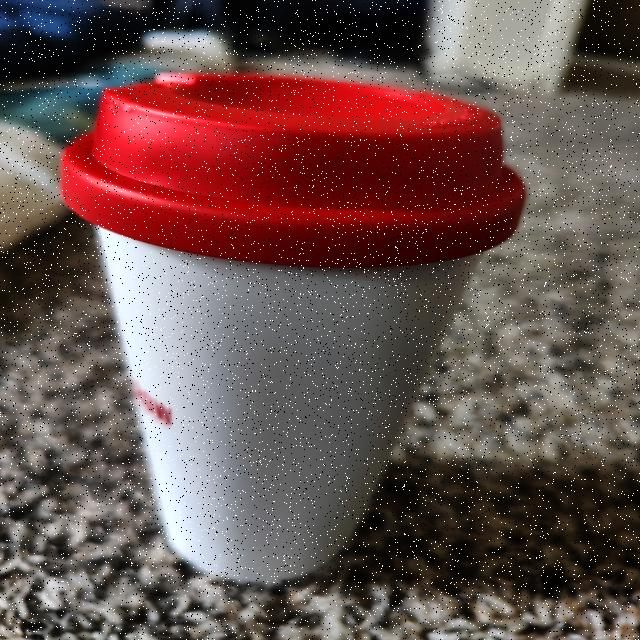mug: (61, 48, 518, 586)
